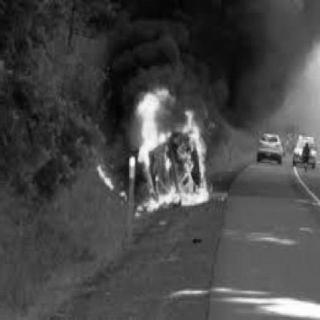Fire: (86, 77, 220, 226)
